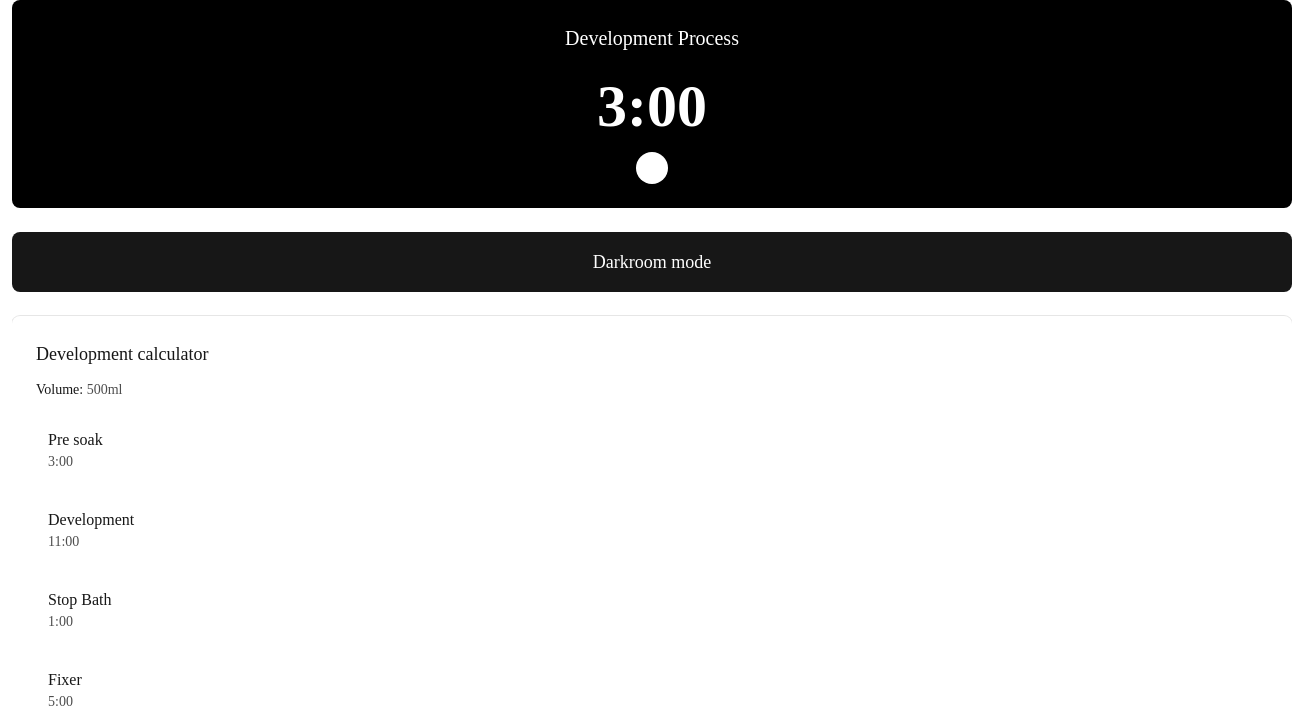
it: Timer Component › start begins at pre-soak when preSoak duration is set
Click the button with test id "start-button": x=652, y=168 top-left (636, 152), bottom-right (668, 184)
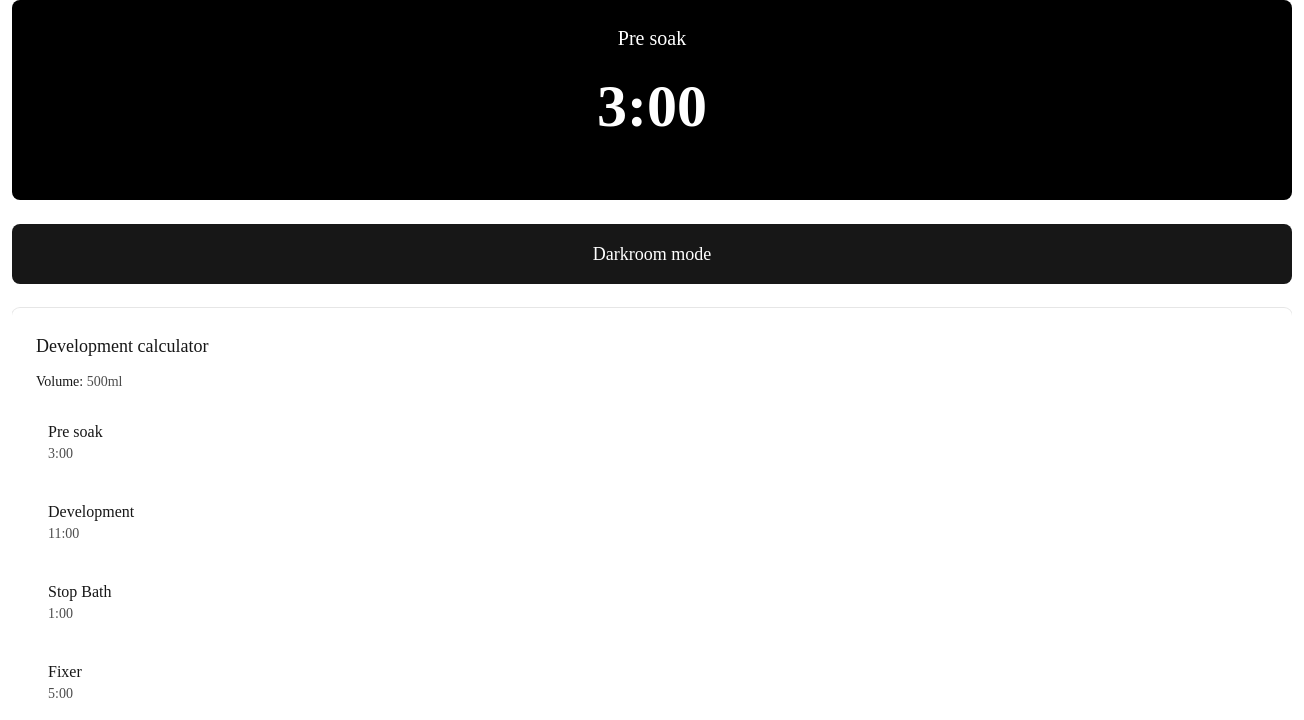
Result: the heading "Pre soak" is shown at top-left (618, 24), bottom-right (686, 52)
